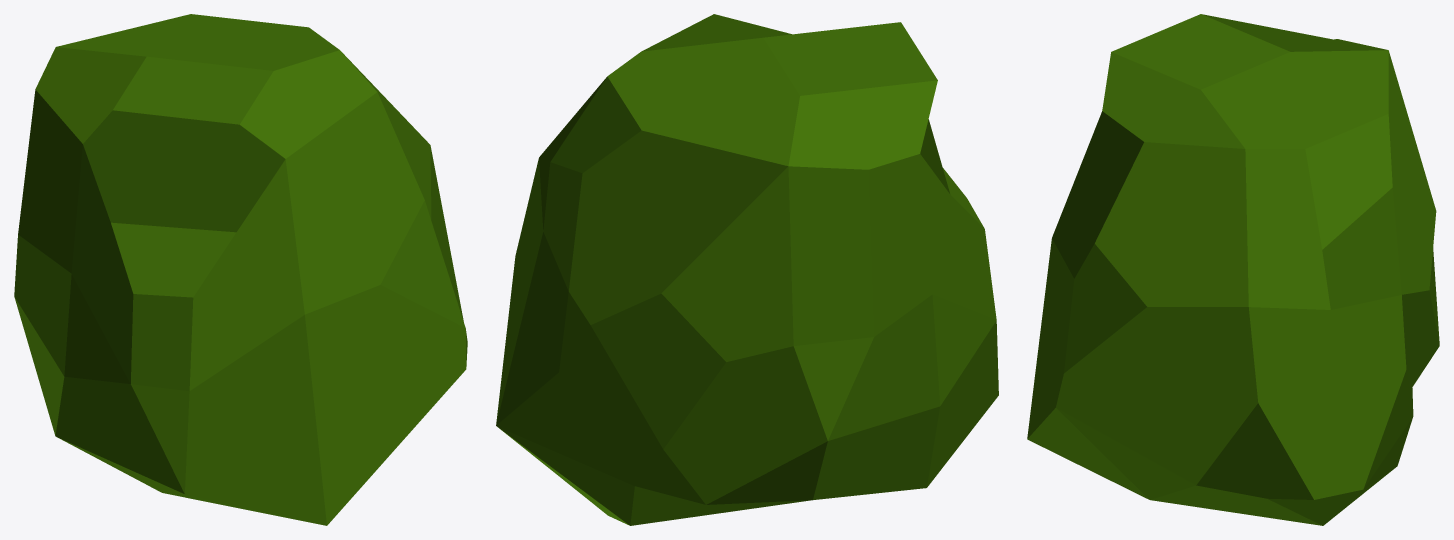
The model's file is rock1.fbx.
3 views of the same model, side by side, from view 1: azimuth 30°, elevation 25°; view 2: azimuth 150°, elevation 25°; view 3: azimuth 270°, elevation 25° (orthographic). The views are drawn at different scales.
Visible parts, largest first — view 1: rock1; view 2: rock1; view 3: rock1.
Part boxes in pixels (<box>): rock1: <box>14,14,467,525</box>; rock1: <box>496,14,998,525</box>; rock1: <box>1027,14,1439,525</box>.
Bounding box in the file's own units: 107 × 110 × 103.
